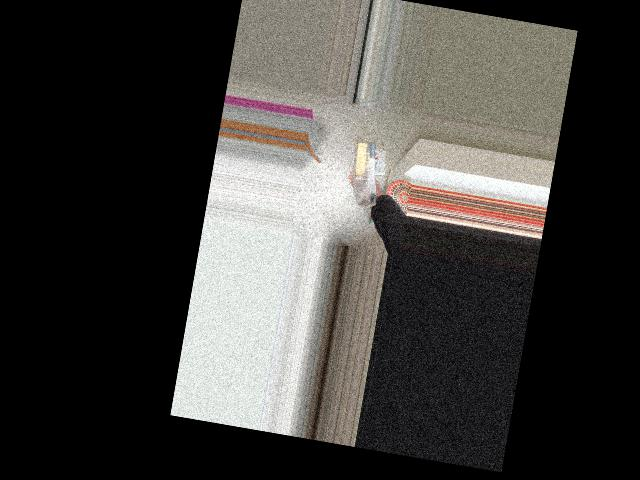cheese: (345, 139, 385, 206)
